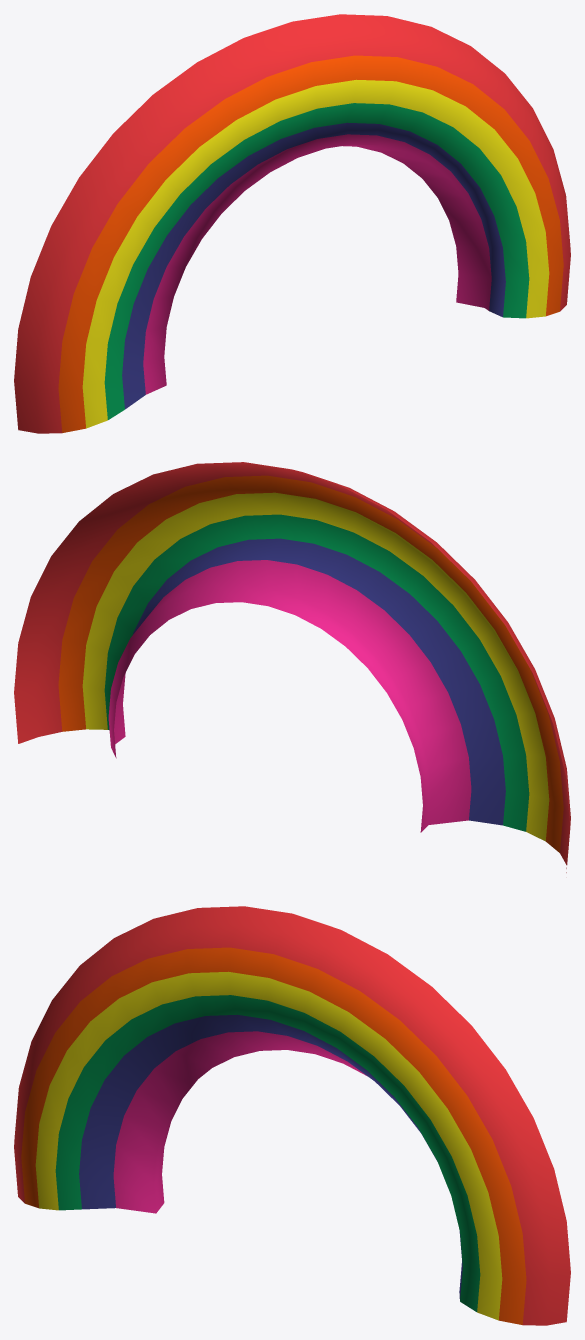
Rendered from arcoPink.fbx.
3 views of the same model, one above another, from view 1: azimuth 30°, elevation 25°; view 2: azimuth 150°, elevation 25°; view 3: azimuth 330°, elevation 25° (orthographic).
Parts seen in each view (by area): view 1: cinza; view 2: cinza; view 3: cinza.
Boxes of the visible parts, <box> form: cinza: <box>14,14,570,433</box>; cinza: <box>14,462,570,872</box>; cinza: <box>14,906,570,1325</box>.
Size of the model in its own units: 6.08 by 3.57 by 0.5824.
